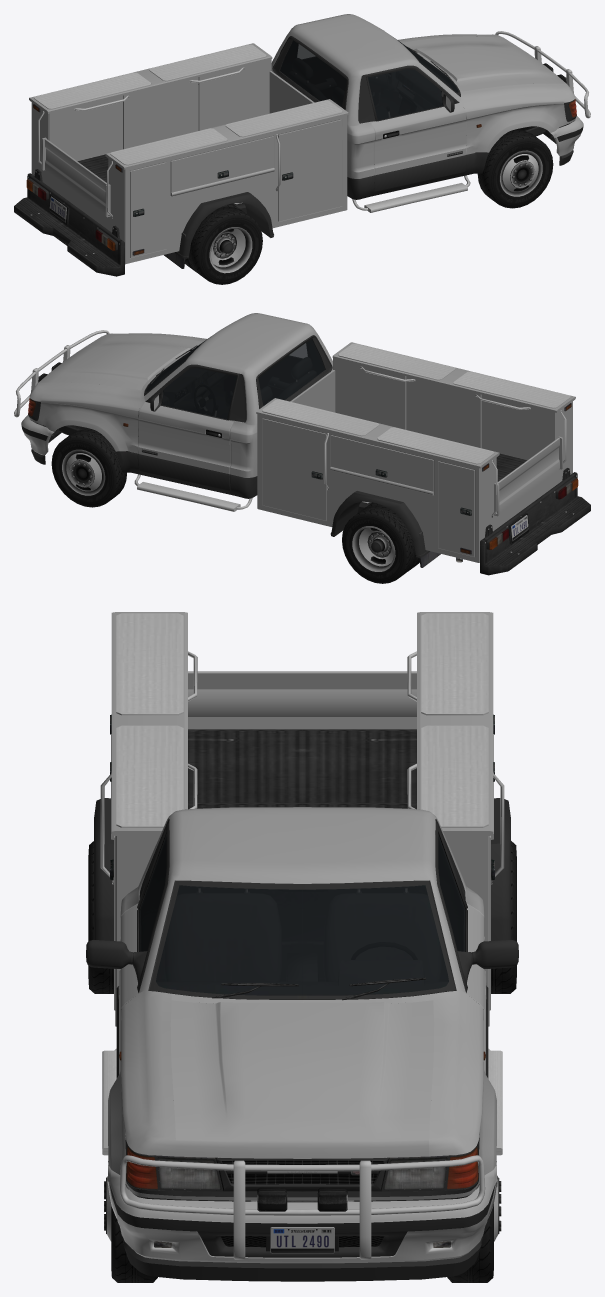
The model's file is veh_pickup.glb.
The picture shows the model from 3 angles, top to bottom: view 1: azimuth 30°, elevation 25°; view 2: azimuth 150°, elevation 25°; view 3: azimuth 270°, elevation 25°; orthographic projection. The views are drawn at different scales.
Parts seen in each view (by area): view 1: UTLTRUCK90_Bumper_Front_UTLTRUCK90_Bodymat_0, UTLTRUCK90_bottom_UCB_BOTTOM_0, UTLTRUCK90_WheelStock_FL_RB1c_Tire_1k_0, UTLTRUCK90_Glass_Rear_UCB_Lights_and_Glass_Transperent_0, UTLTRUCK90_Interior_UCB_Interiors_1_0; view 2: UTLTRUCK90_Bumper_Front_UTLTRUCK90_Bodymat_0, UTLTRUCK90_bottom_UCB_BOTTOM_0, UTLTRUCK90_WheelStock_FL_RB1c_Tire_1k_0, UTLTRUCK90_Glass_Rear_UCB_Lights_and_Glass_Transperent_0, UTLTRUCK90_Interior_UCB_Interiors_1_0; view 3: UTLTRUCK90_Bumper_Front_UTLTRUCK90_Bodymat_0, UTLTRUCK90_bottom_UCB_BOTTOM_0, UTLTRUCK90_Glass_Rear_UCB_Lights_and_Glass_Transperent_0, UTLTRUCK90_Interior_UCB_Interiors_1_0, UTLTRUCK90_WheelStock_FL_RB1c_Tire_1k_0, UTLTRUCK90_Headlights_UCB_Lights_and_Glass_0, UTLTRUCK90_Numberplate_Front_Numberplates_Misk_U_0.
Part boxes in pixels (<box>): UTLTRUCK90_Bumper_Front_UTLTRUCK90_Bodymat_0: <box>29,14,583,264</box>; UTLTRUCK90_bottom_UCB_BOTTOM_0: <box>14,31,590,276</box>; UTLTRUCK90_WheelStock_FL_RB1c_Tire_1k_0: <box>185,130,553,284</box>; UTLTRUCK90_Glass_Rear_UCB_Lights_and_Glass_Transperent_0: <box>26,40,576,250</box>; UTLTRUCK90_Interior_UCB_Interiors_1_0: <box>280,36,456,123</box>; UTLTRUCK90_Bumper_Front_UTLTRUCK90_Bodymat_0: <box>21,313,575,562</box>; UTLTRUCK90_bottom_UCB_BOTTOM_0: <box>14,330,590,575</box>; UTLTRUCK90_WheelStock_FL_RB1c_Tire_1k_0: <box>51,429,419,583</box>; UTLTRUCK90_Glass_Rear_UCB_Lights_and_Glass_Transperent_0: <box>28,339,578,549</box>; UTLTRUCK90_Interior_UCB_Interiors_1_0: <box>148,340,323,418</box>; UTLTRUCK90_Bumper_Front_UTLTRUCK90_Bodymat_0: <box>107,612,497,1223</box>; UTLTRUCK90_bottom_UCB_BOTTOM_0: <box>86,613,518,1281</box>; UTLTRUCK90_Glass_Rear_UCB_Lights_and_Glass_Transperent_0: <box>126,835,478,1190</box>; UTLTRUCK90_Interior_UCB_Interiors_1_0: <box>141,842,463,994</box>; UTLTRUCK90_WheelStock_FL_RB1c_Tire_1k_0: <box>88,841,516,1282</box>; UTLTRUCK90_Headlights_UCB_Lights_and_Glass_0: <box>126,1148,478,1189</box>; UTLTRUCK90_Numberplate_Front_Numberplates_Misk_U_0: <box>270,1227,334,1253</box>.
Size of the model in its own units: 5.37 by 1.66 by 2.
8 materials, 7 textured.
